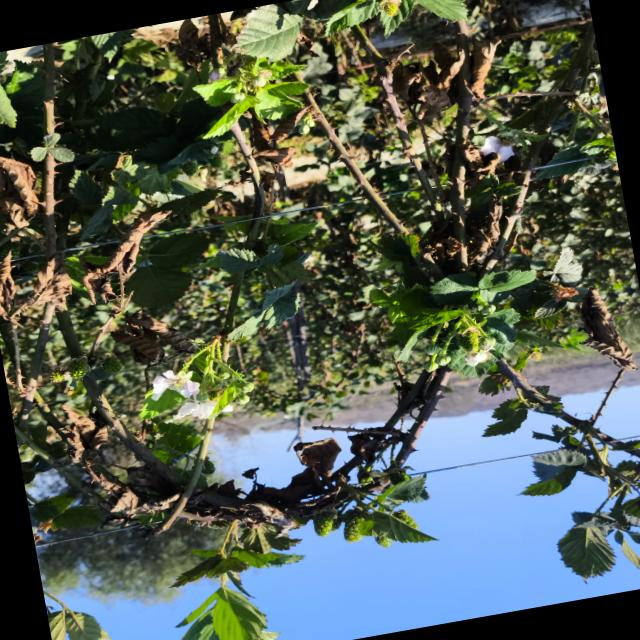boton: (478, 335, 496, 351), (423, 358, 438, 372), (435, 354, 451, 366), (240, 381, 254, 392), (235, 394, 250, 404), (424, 343, 436, 354)
flor: (152, 370, 198, 400), (174, 400, 215, 418), (465, 351, 490, 366)
